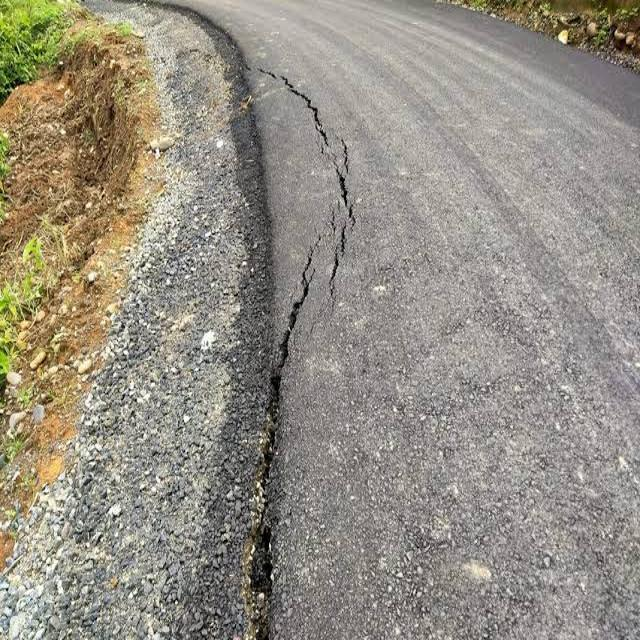Pinggir: (175, 35, 377, 640)
